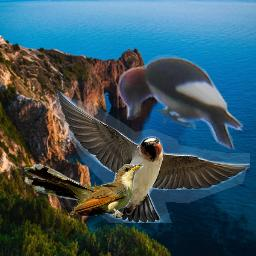Cuckoo: (24, 164, 144, 217)
Swallow: (55, 89, 250, 223)
Woodpecker: (114, 54, 246, 152)
